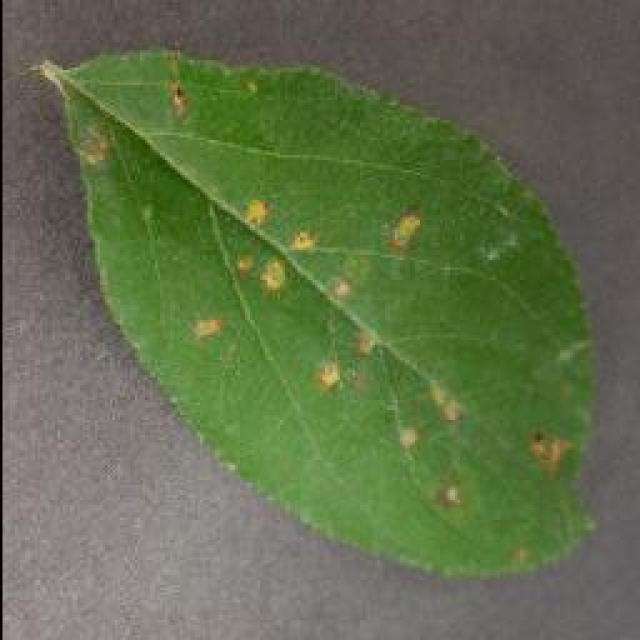apple cedar apple rust: (35, 42, 603, 580)
